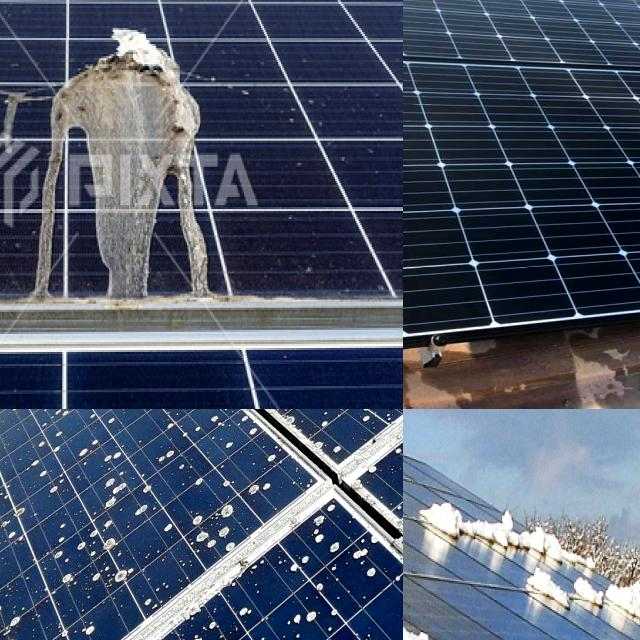bird: (25, 24, 222, 344), (312, 502, 392, 592), (60, 509, 134, 578), (90, 409, 149, 481), (174, 503, 254, 552), (0, 495, 30, 558), (0, 590, 37, 640), (298, 409, 362, 436), (168, 409, 227, 437), (292, 409, 343, 440), (270, 596, 318, 626), (234, 409, 276, 439), (90, 409, 132, 436), (0, 409, 37, 429), (52, 409, 87, 425), (358, 409, 397, 423)
crack: (403, 0, 640, 409)
panel: (403, 488, 491, 559), (483, 499, 587, 558), (403, 496, 450, 591), (403, 488, 461, 559), (403, 449, 455, 528), (530, 570, 610, 620), (403, 409, 446, 492), (403, 409, 452, 464), (403, 536, 448, 591), (610, 574, 640, 638), (403, 606, 453, 640), (462, 600, 499, 640)
